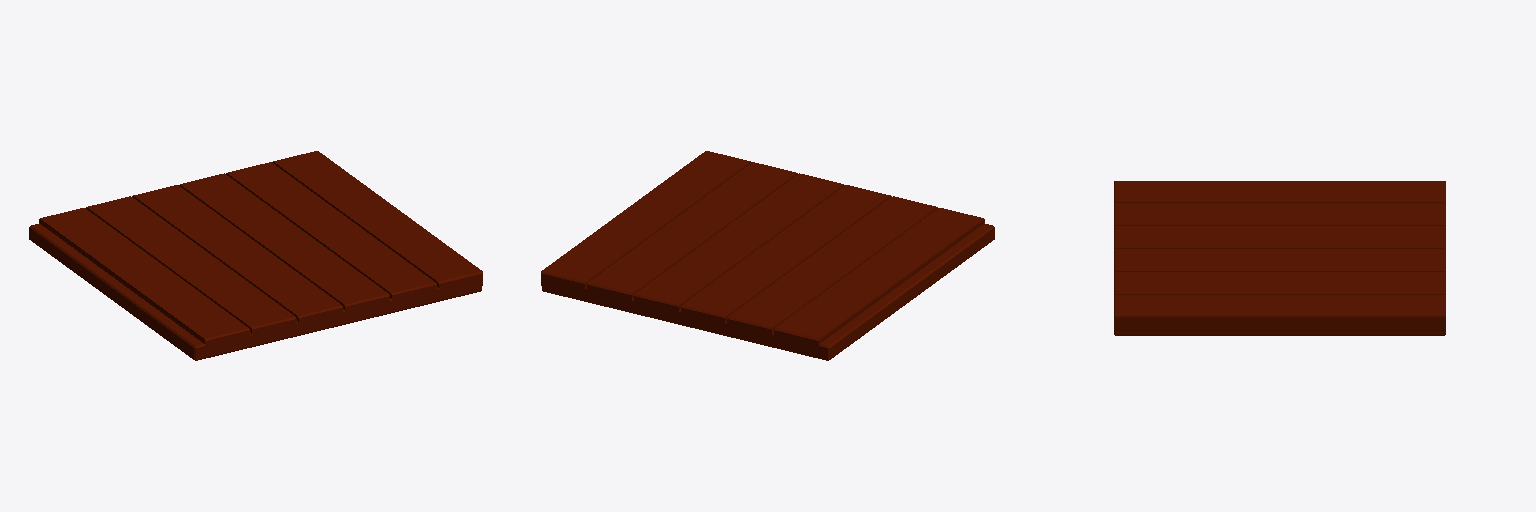
Rendered from floor.obj.
3 renders of one model, left to right at view 1: azimuth 30°, elevation 25°; view 2: azimuth 150°, elevation 25°; view 3: azimuth 270°, elevation 25°, orthographic.
Visible parts, largest first — view 1: Plane.001, Plane; view 2: Plane.001, Plane; view 3: Plane.001, Plane.
Part boxes in pixels (bbox=[...]): Plane.001: bbox=[39, 151, 482, 352]; Plane: bbox=[29, 223, 481, 360]; Plane.001: bbox=[541, 151, 984, 350]; Plane: bbox=[542, 223, 994, 360]; Plane.001: bbox=[1114, 181, 1445, 330]; Plane: bbox=[1114, 331, 1445, 335].
Size of the model in its own units: 6.02 by 0.3996 by 6.02.